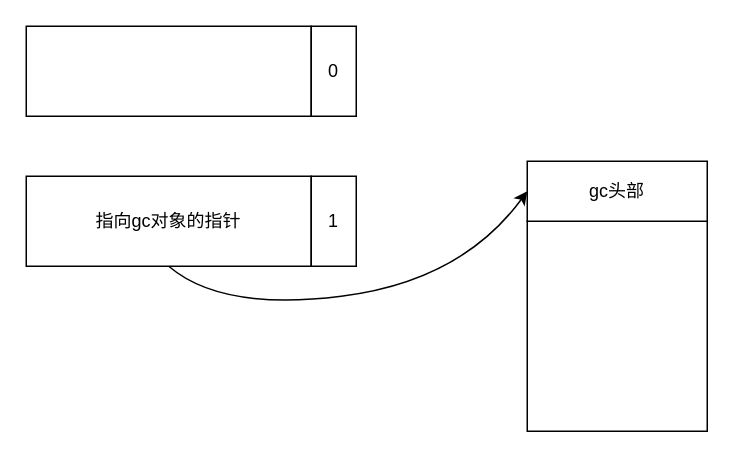
This 734x458 diagram has some shape labels left out. Here are the shapes that lost their labels. From the top down, the centre of each, then its label:
pixel 168 70: 数字本身
pixel 616 325: ....堆对象内容...
